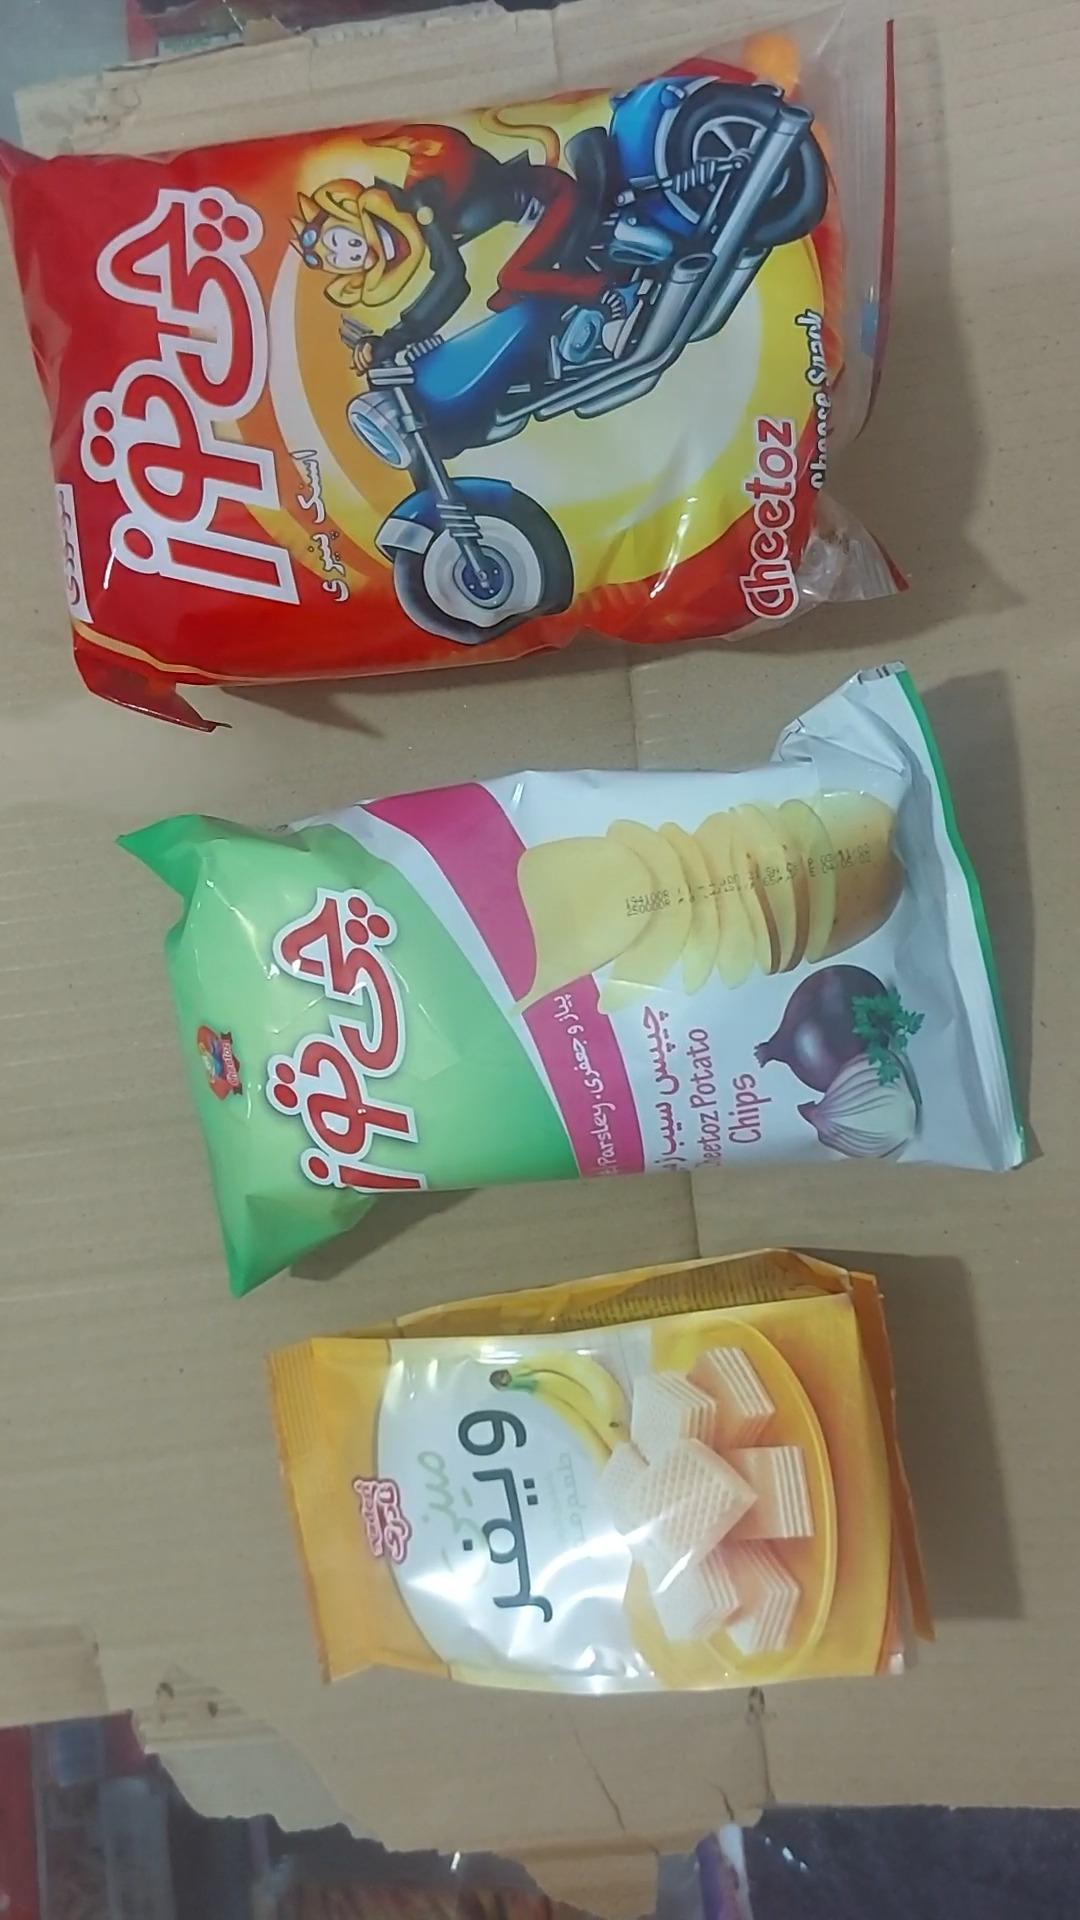Cheetoz onion and parsley chips: (117, 666, 1038, 1299)
Cheetoz snack 90g: (0, 22, 911, 736)
Naderi mini wafer: (266, 1249, 935, 1698)
